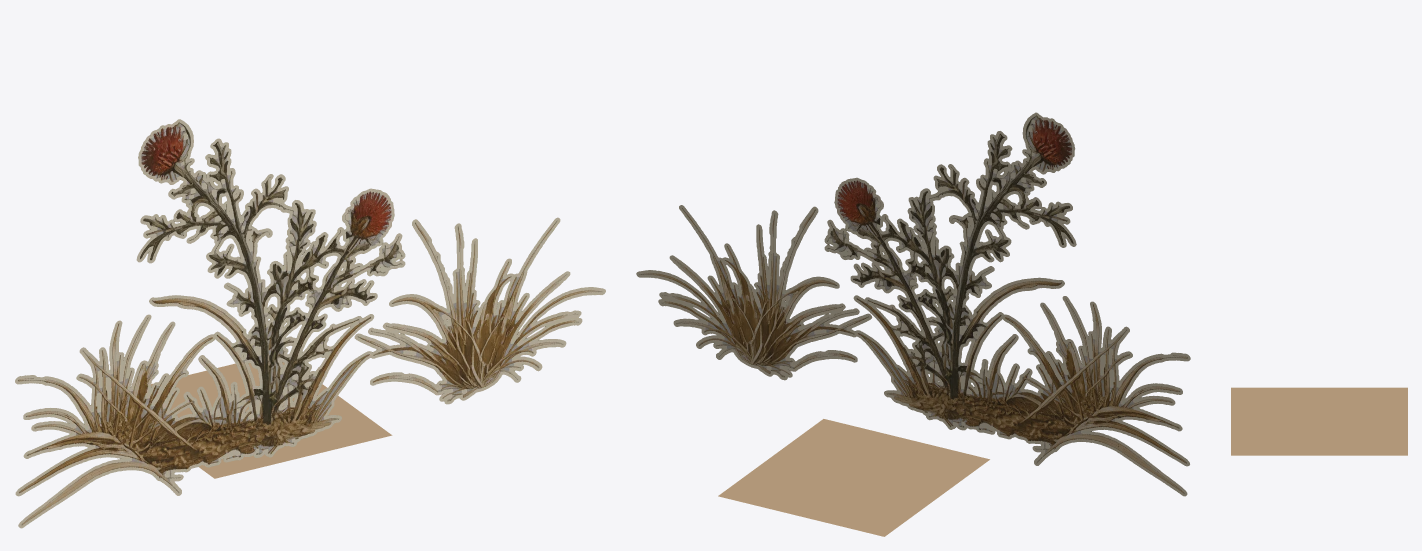
Rendered from toad-standee-thistles.glb.
3 renders of one model, left to right at view 1: azimuth 30°, elevation 25°; view 2: azimuth 150°, elevation 25°; view 3: azimuth 270°, elevation 25°, orthographic. The views are drawn at different scales.
Parts seen in each view (by area): view 1: thistles; view 2: thistles; view 3: thistles.
Boxes of the visible parts, <box> form: thistles: <box>15,119,605,528</box>; thistles: <box>636,112,1190,536</box>; thistles: <box>1231,387,1407,455</box>.
Bounding box in the file's own units: 0.1 × 0.061 × 0.035.
Materials: 1 (1 with a texture image).
